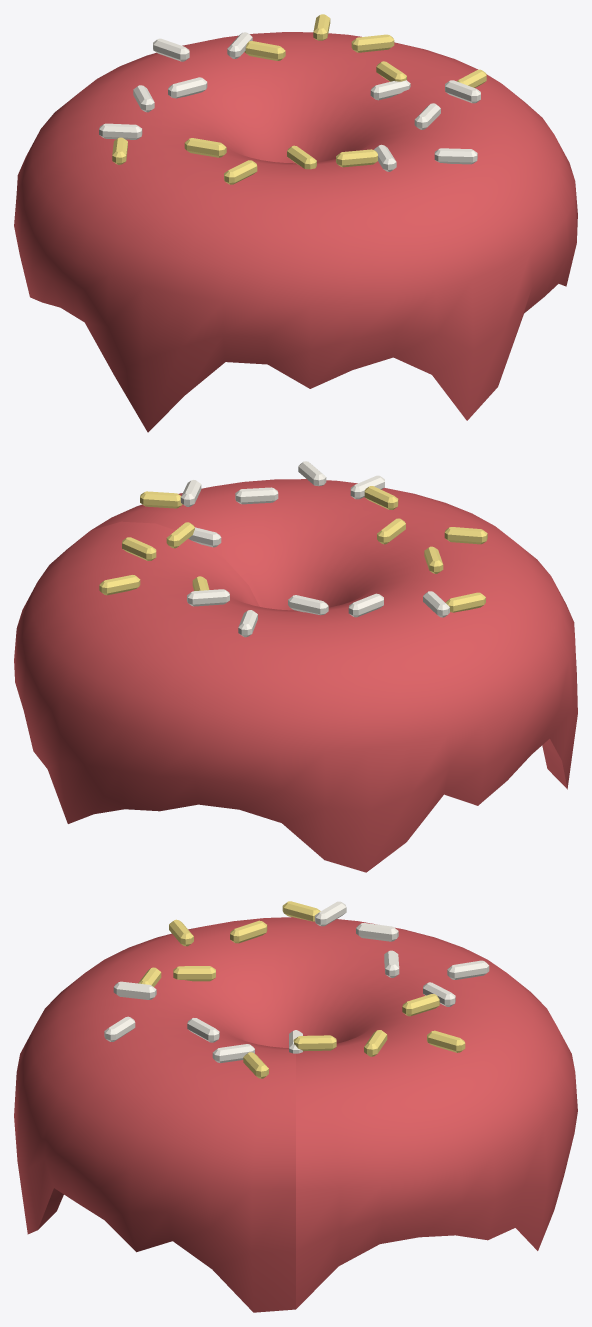
File: fresh-produce-and-groceries-doughnut-d49a3aff__24417.glb
3 views of the same model, one above another, from view 1: azimuth 30°, elevation 25°; view 2: azimuth 150°, elevation 25°; view 3: azimuth 270°, elevation 25° (orthographic).
Visible parts, largest first — view 1: doughnut; view 2: doughnut; view 3: doughnut.
Part boxes in pixels (x1,y1,x2,y2): doughnut: (14,14,577,432); doughnut: (14,461,577,872); doughnut: (14,901,577,1312).
Size of the model in its own units: 0.1124 by 0.053 by 0.1124.
